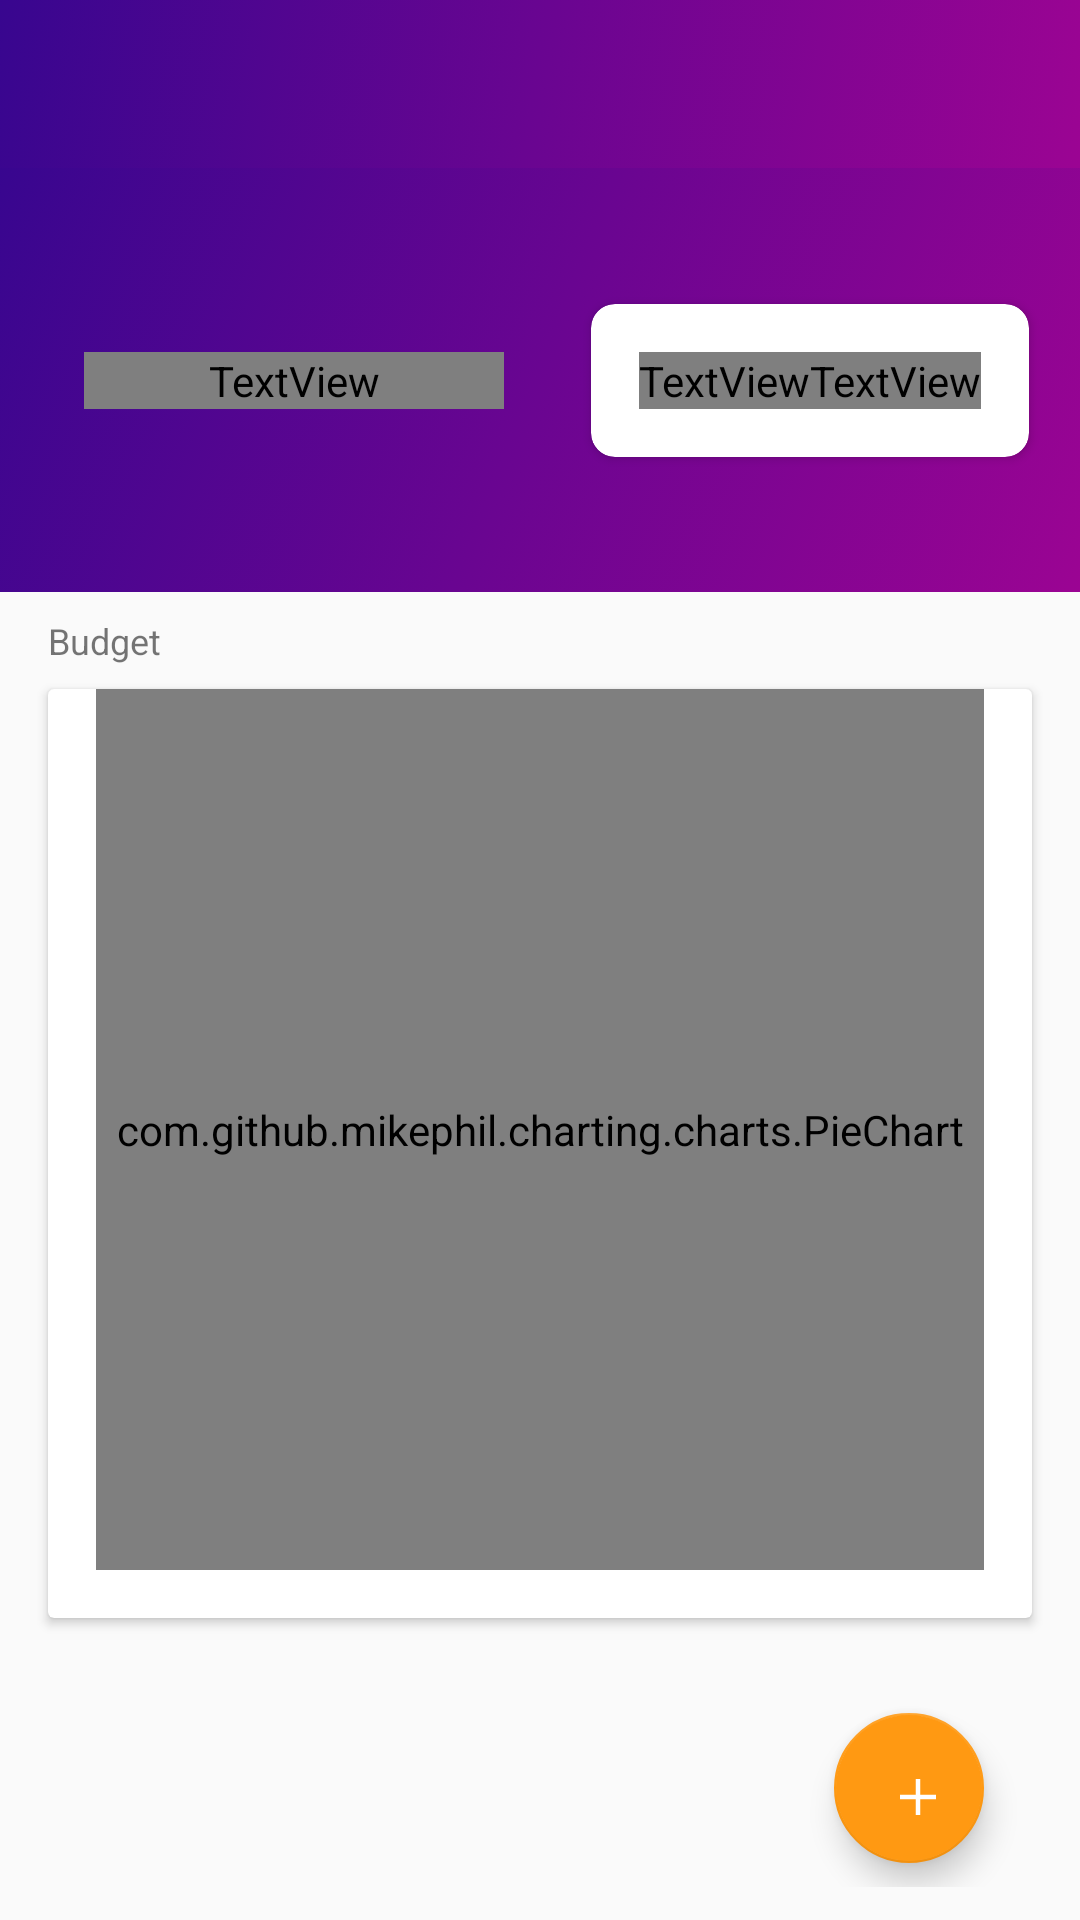

Named icons in this screenshot (1080 × 1920) and their centers, [x,y]:
plus: [909,1788]
